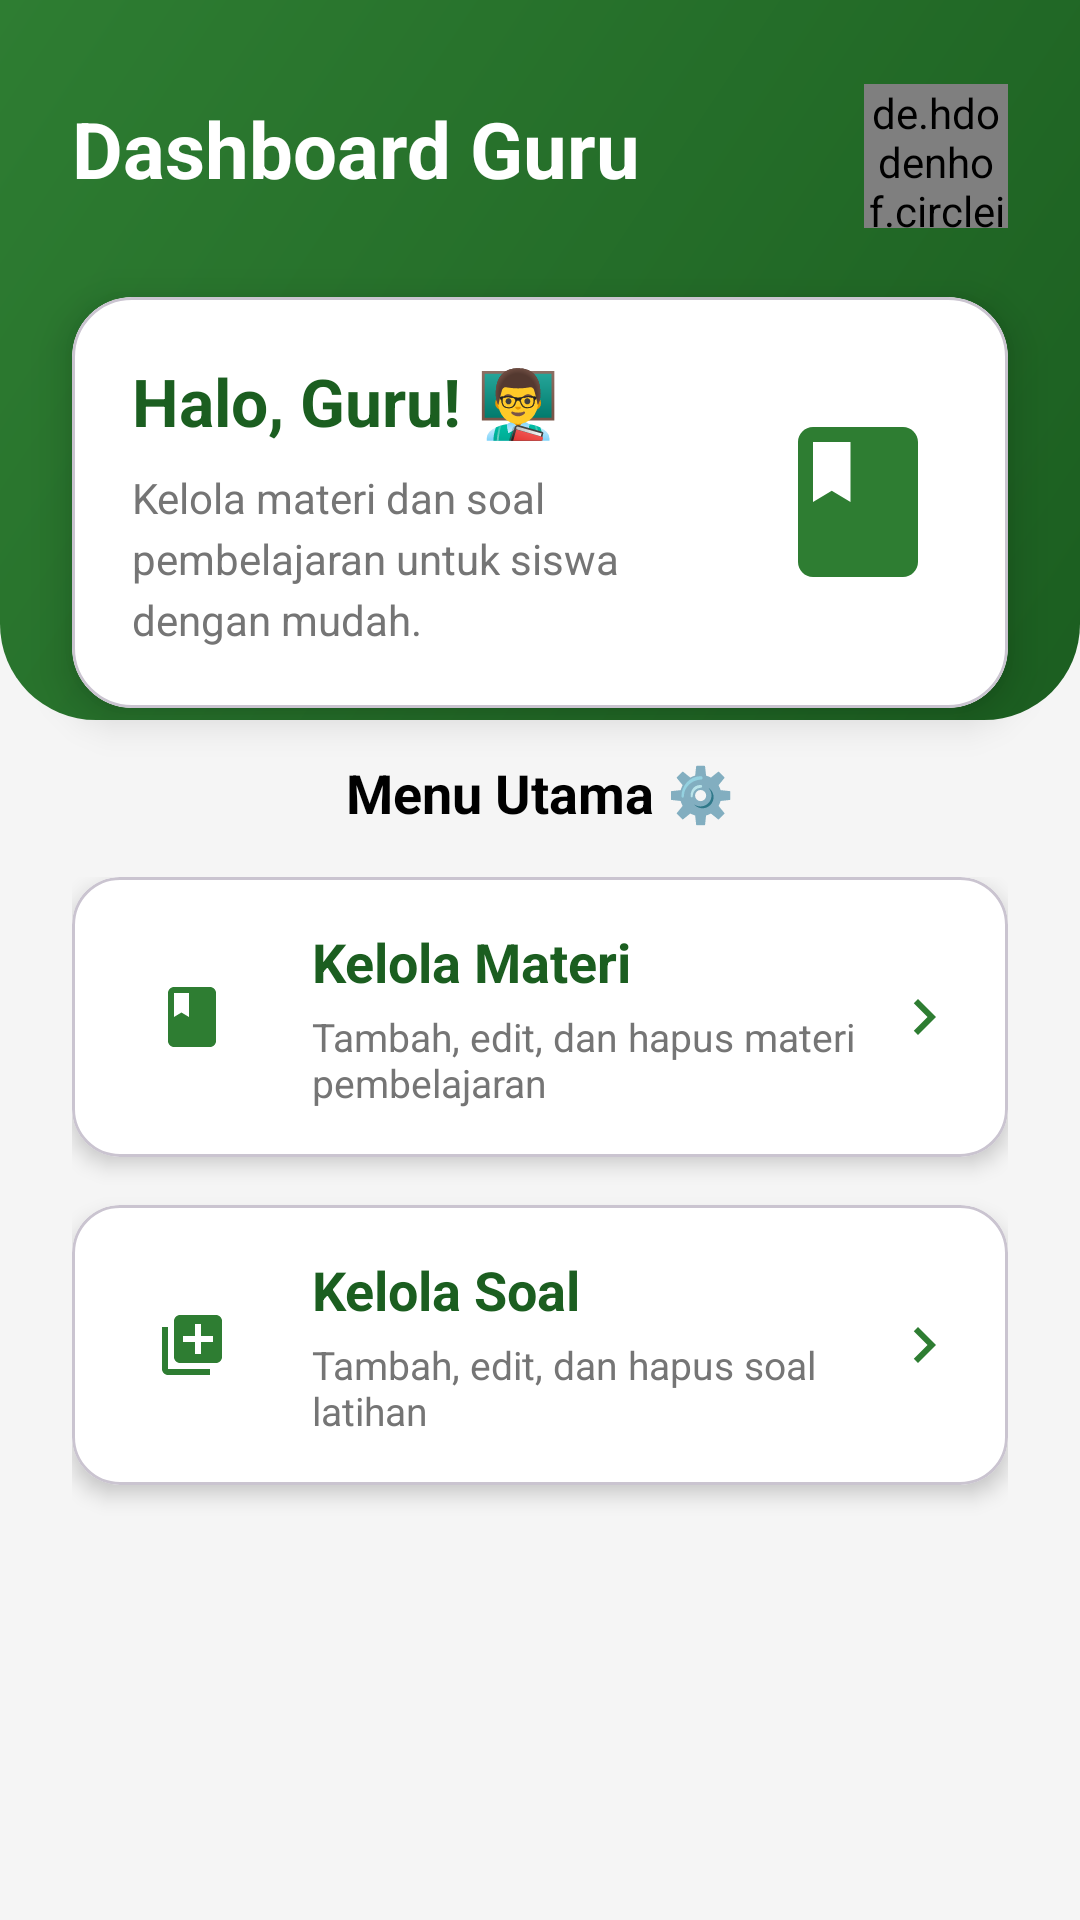

Icon bounding boxes for this 1080px×1920px phone screenshot, format (x1, y1, x2, y2):
arrow right: (914, 999, 936, 1035), (914, 1327, 936, 1363)
book: (798, 427, 918, 577), (168, 987, 216, 1047)
